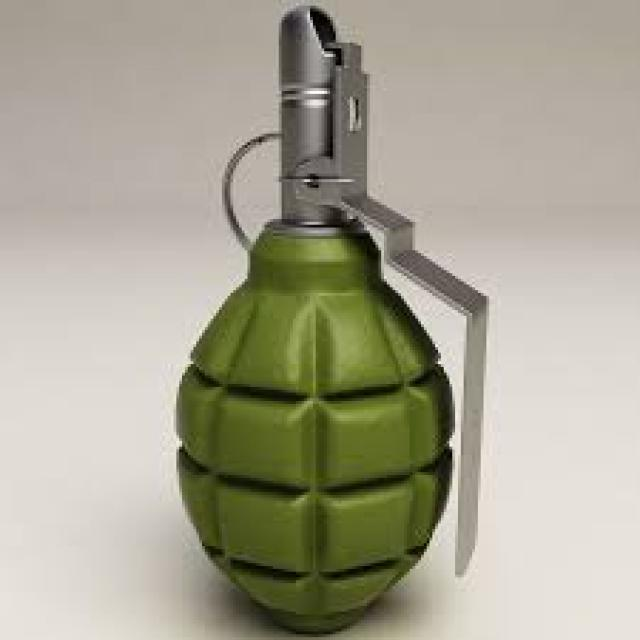grenade: (163, 1, 505, 640)
